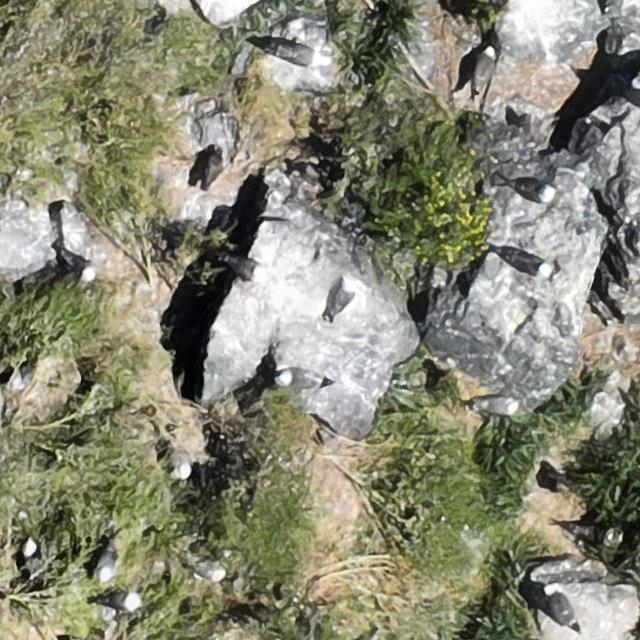umineko: (541, 585, 581, 631), (215, 254, 269, 282), (191, 551, 232, 584), (57, 250, 98, 282), (331, 276, 357, 315), (508, 252, 550, 275), (170, 446, 196, 482), (276, 370, 324, 388), (280, 46, 320, 66), (474, 47, 495, 85), (514, 183, 550, 202), (478, 399, 519, 415), (97, 551, 115, 580), (110, 593, 139, 611), (22, 539, 36, 562)
